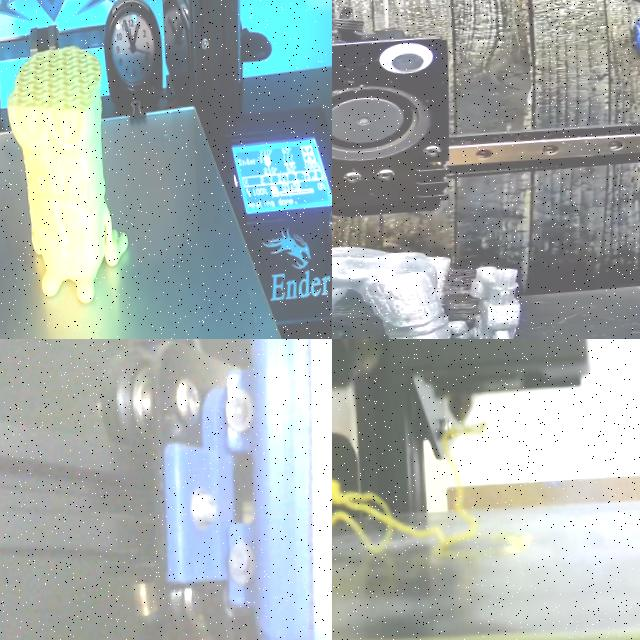spaghetti: (332, 422, 485, 554)
